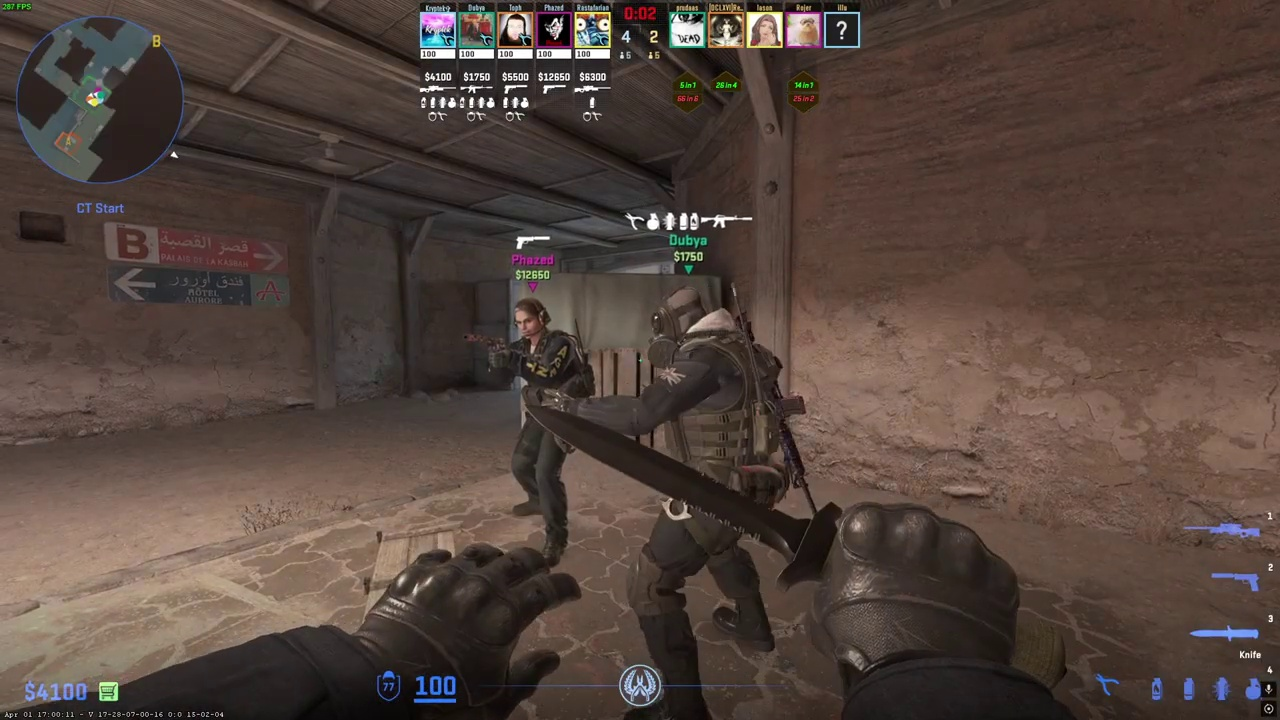CT: (616, 284, 790, 720), (491, 297, 596, 565)
